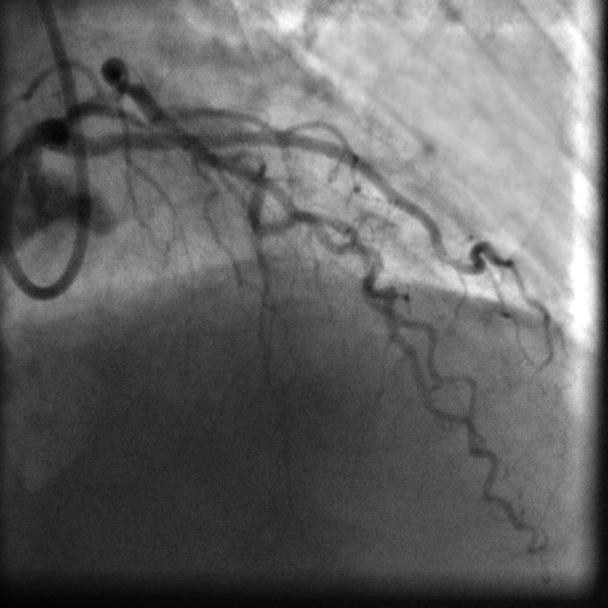Stenosis: (110, 57, 140, 104)
